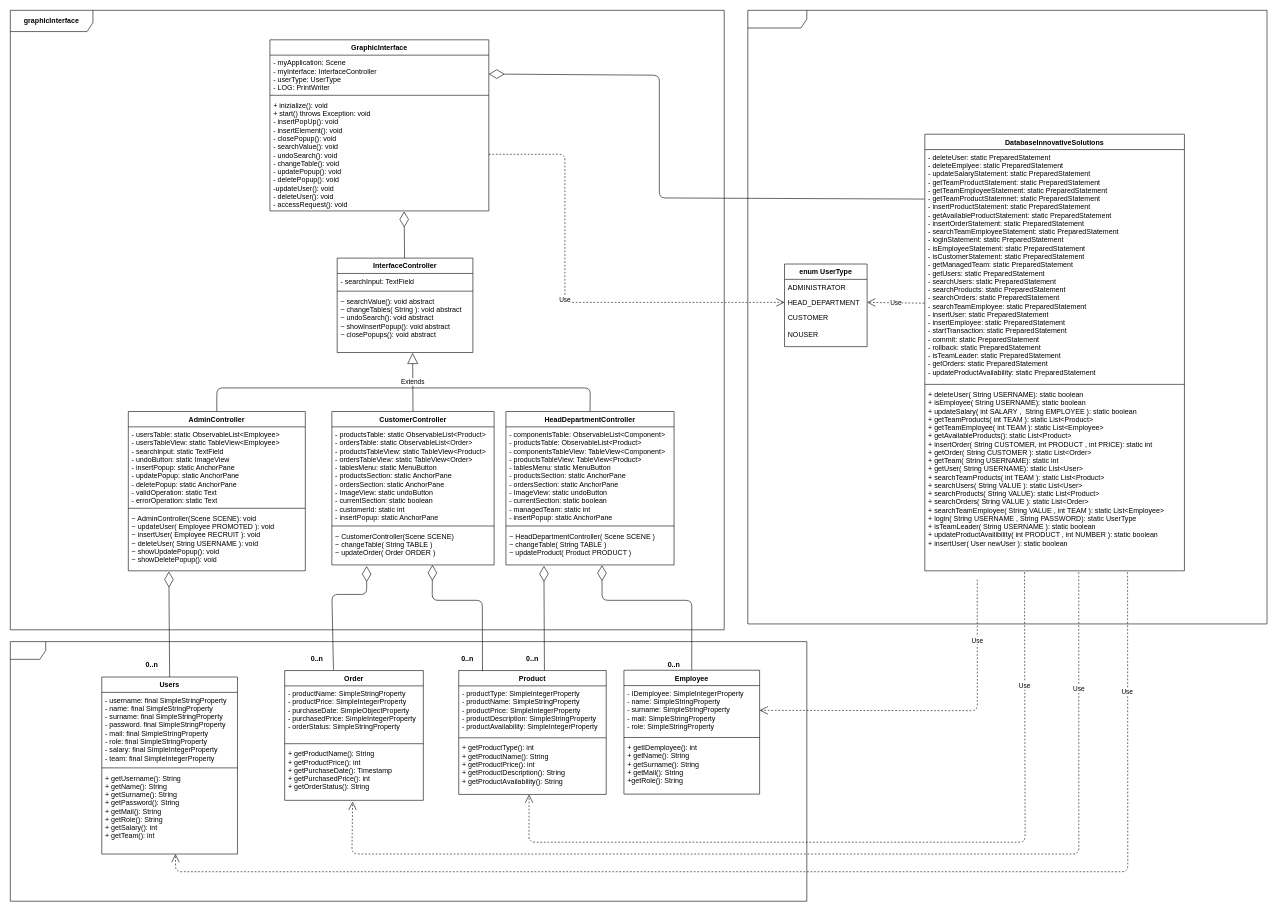
Image size: 1277x912. Some labels were removed from this diagram. Here are the shapes that lost their labels. From the top down, the centre of each, then its label:
point (1007, 317): Database Management
point (408, 771): beans
